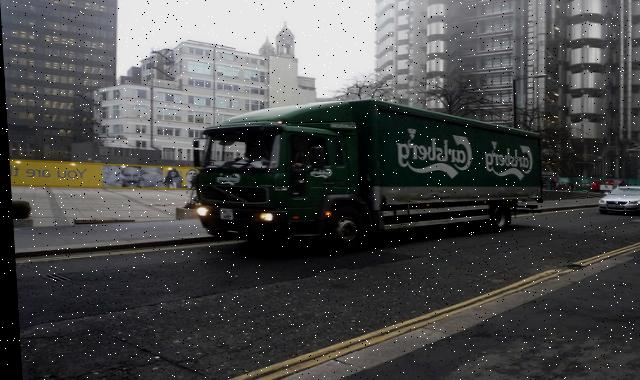car: (595, 182, 640, 215)
truck: (176, 106, 549, 264)
